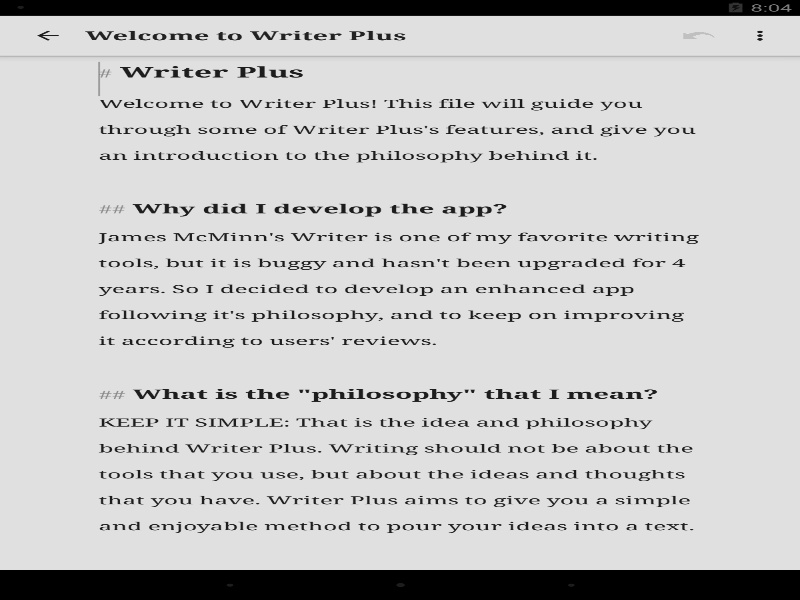Button: (10, 15, 85, 55)
Input: (85, 26, 661, 44)
